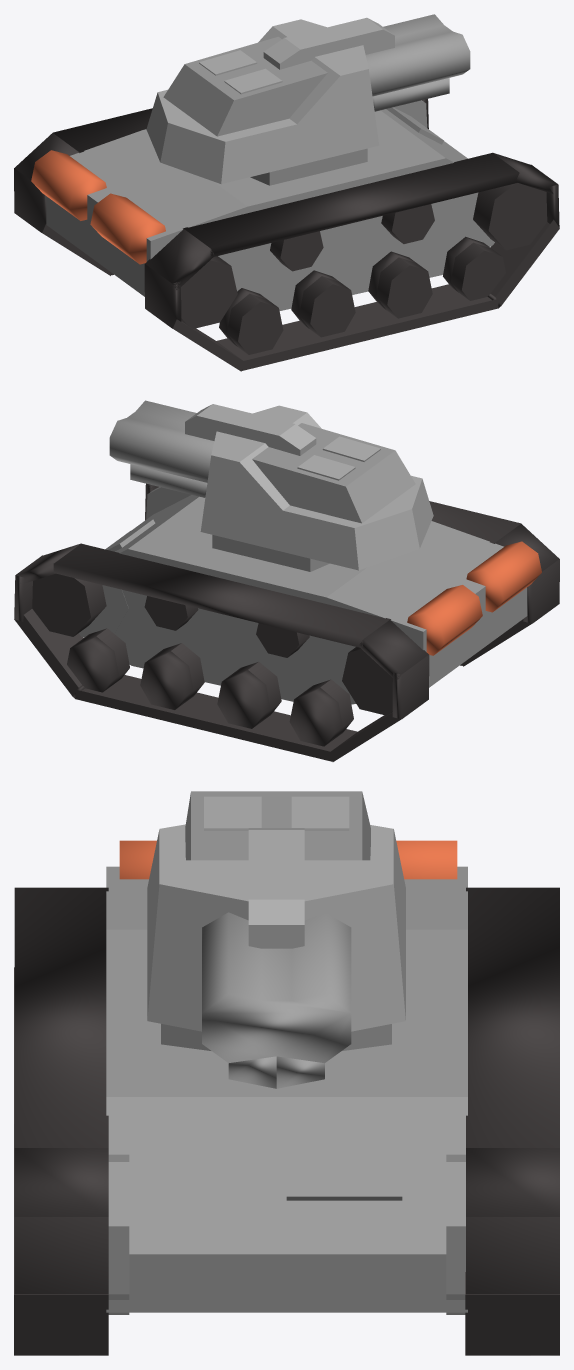
The model's file is burst.glb.
The picture shows the model from 3 angles, top to bottom: view 1: azimuth 30°, elevation 25°; view 2: azimuth 150°, elevation 25°; view 3: azimuth 270°, elevation 25°; orthographic projection. The views are drawn at different scales.
Parts seen in each view (by area): view 1: Cube.003, Cube.004, gun, Cylinder.001, shell opening, Cylinder.003; view 2: Cube.003, Cube.004, gun, Cylinder.001, shell opening, Cylinder.003, Cylinder.002; view 3: Cube.003, Cube.004, gun, shell opening, Cylinder.001, Cylinder.002, Cylinder.003.
Boxes of the visible parts, x1=… form: Cube.003: x1=14, y1=99, x2=559, y2=371; Cube.004: x1=146, y1=17, x2=394, y2=185; gun: x1=365, y1=14, x2=470, y2=111; Cylinder.001: x1=31, y1=150, x2=165, y2=264; shell opening: x1=199, y1=50, x2=282, y2=94; Cylinder.003: x1=394, y1=100, x2=427, y2=127; Cube.003: x1=14, y1=483, x2=559, y2=761; Cube.004: x1=185, y1=404, x2=433, y2=571; gun: x1=109, y1=400, x2=214, y2=497; Cylinder.001: x1=407, y1=541, x2=541, y2=655; shell opening: x1=297, y1=436, x2=380, y2=480; Cylinder.003: x1=78, y1=585, x2=128, y2=637; Cylinder.002: x1=146, y1=487, x2=191, y2=519; Cube.003: x1=14, y1=866, x2=559, y2=1355; Cube.004: x1=147, y1=791, x2=405, y2=1050; gun: x1=202, y1=912, x2=351, y2=1088; shell opening: x1=204, y1=796, x2=349, y2=830; Cylinder.001: x1=119, y1=840, x2=457, y2=879; Cylinder.002: x1=108, y1=1154, x2=129, y2=1314; Cylinder.003: x1=446, y1=1154, x2=465, y2=1314.
Size of the model in its own units: 5.98 by 3.44 by 4.08.
